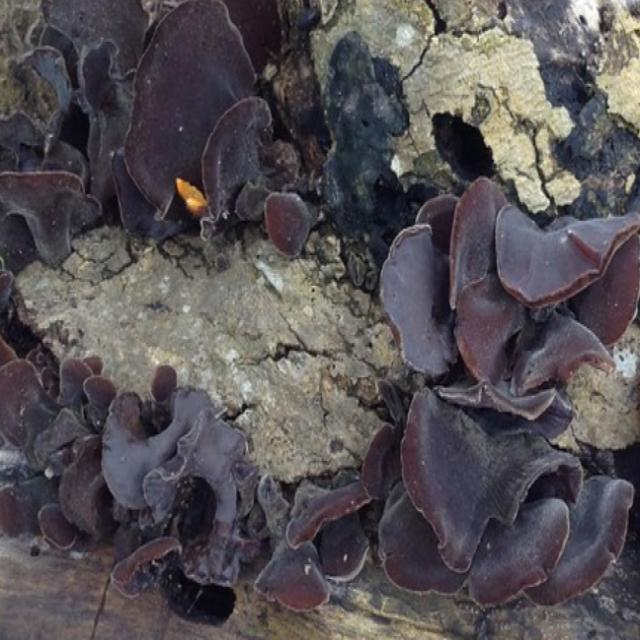Matang: (1, 4, 333, 249), (6, 351, 275, 609), (388, 200, 628, 422), (389, 435, 628, 610)
